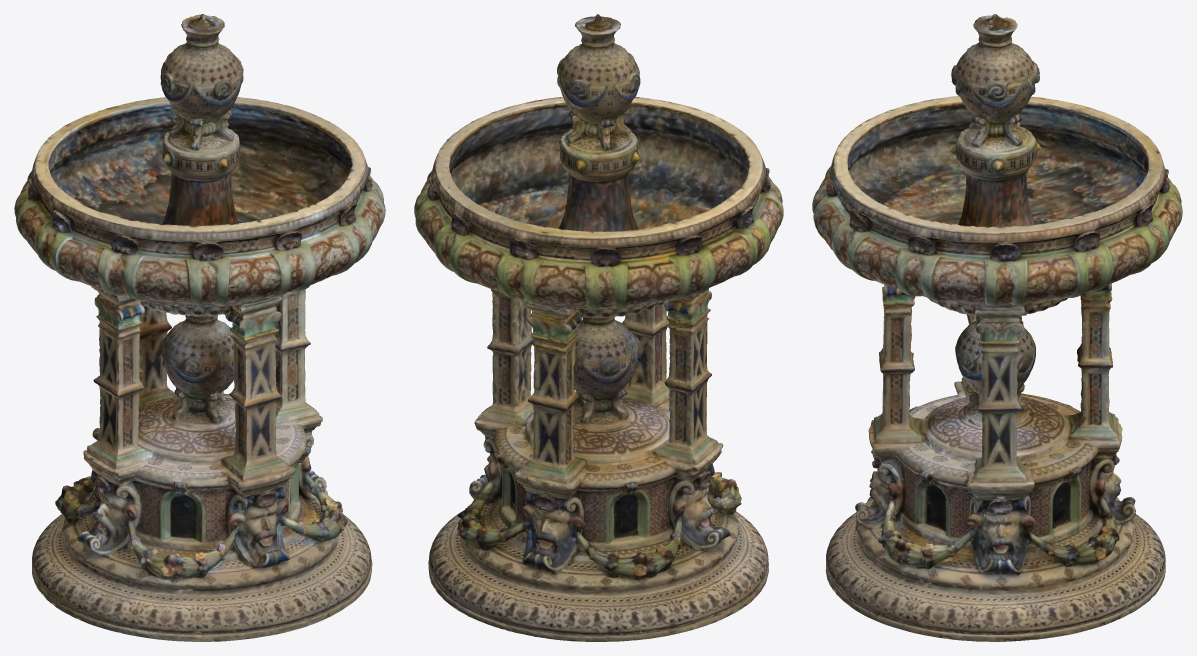
Rendered from preview.glb.
3 renders of one model, left to right at view 1: azimuth 30°, elevation 25°; view 2: azimuth 150°, elevation 25°; view 3: azimuth 270°, elevation 25°, orthographic.
Visible parts, largest first — view 1: Object_2; view 2: Object_2; view 3: Object_2.
Part boxes in pixels (x1,y1,x2,y2): Object_2: (14,14,385,641); Object_2: (414,14,783,641); Object_2: (812,14,1182,641).
Bounding box in the file's own units: 9.08 × 15.04 × 9.08.
1 material, 1 textured.
